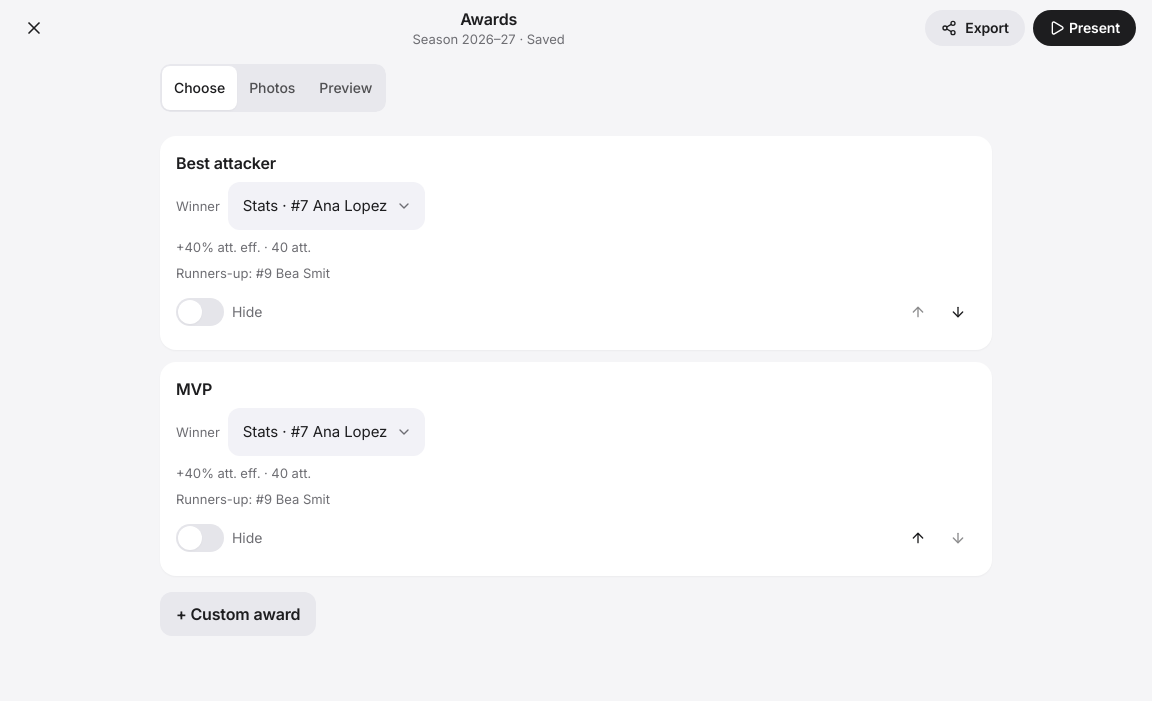
Scenario: AwardsPrepare › warns not to use photos of players as the background image
Click the tab "Preview".
click(346, 88)  # box [307,66,384,110]
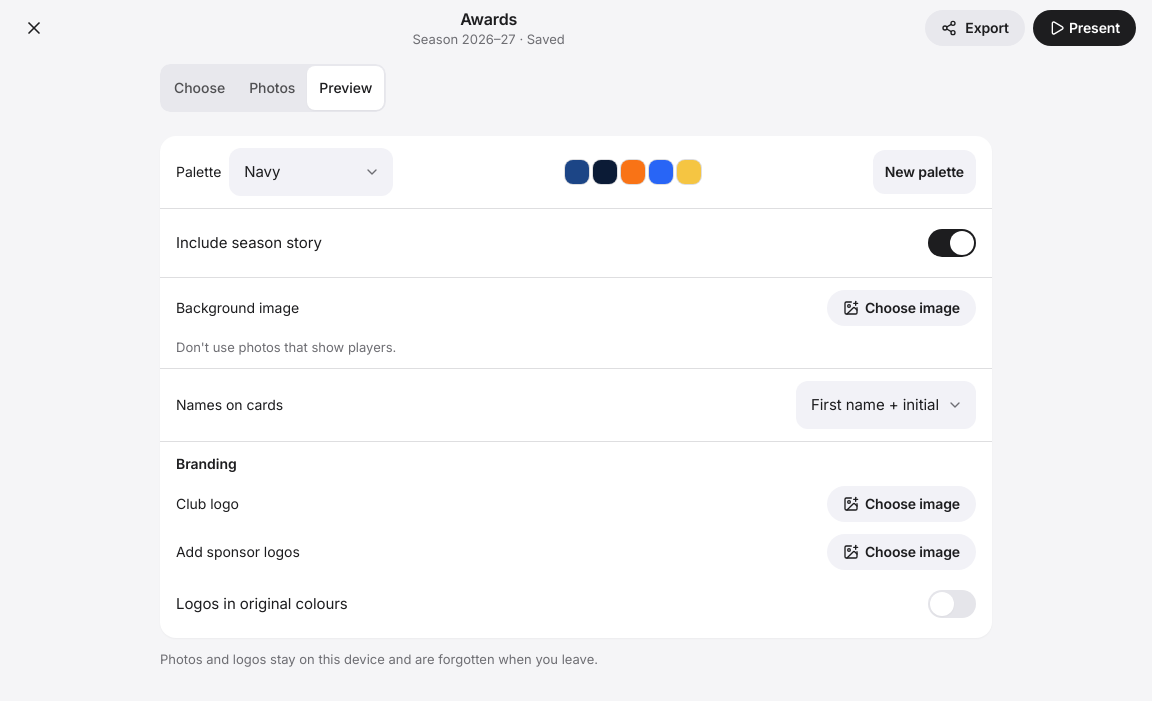
expect the text "Don't use photos that show players." is shown: met, box [176,339,396,355]
